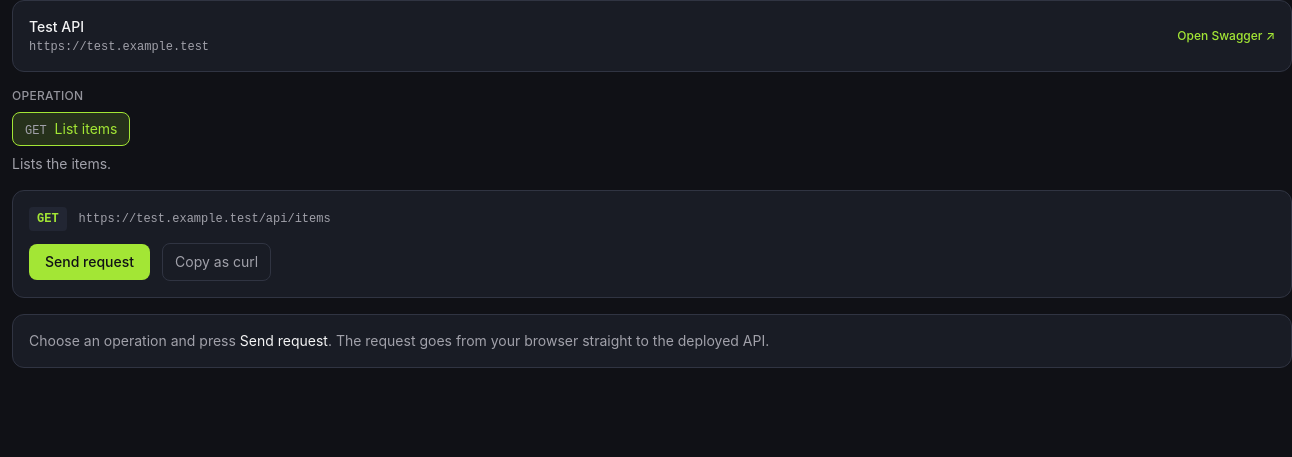
the API tester while a request is running › reports a cancel as the visitor’s own doing
Click the button "Send request" at (90, 262), box [29, 244, 150, 280]
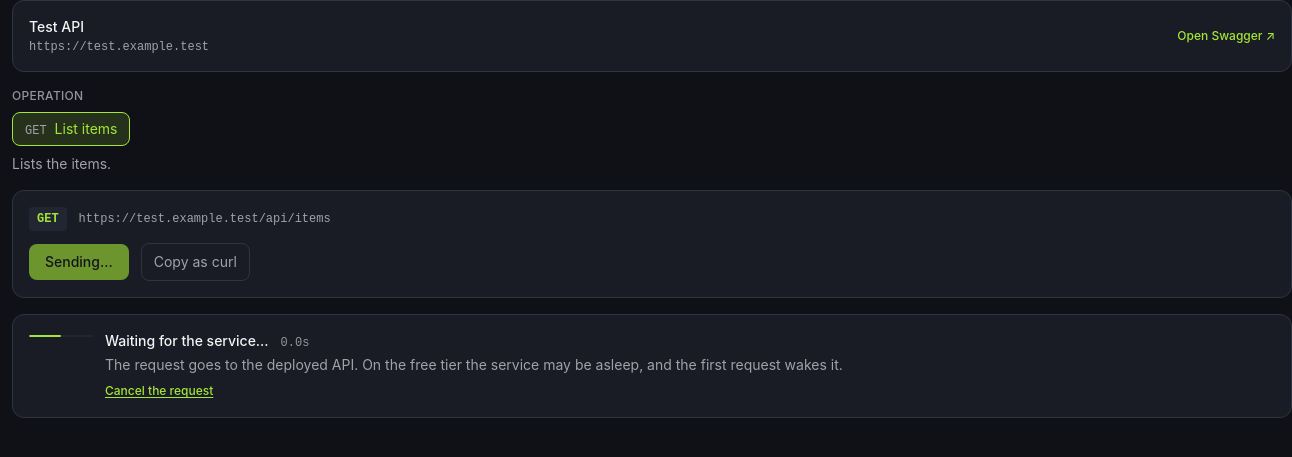
Click the button "Cancel the request" at (159, 391), box [105, 383, 213, 399]
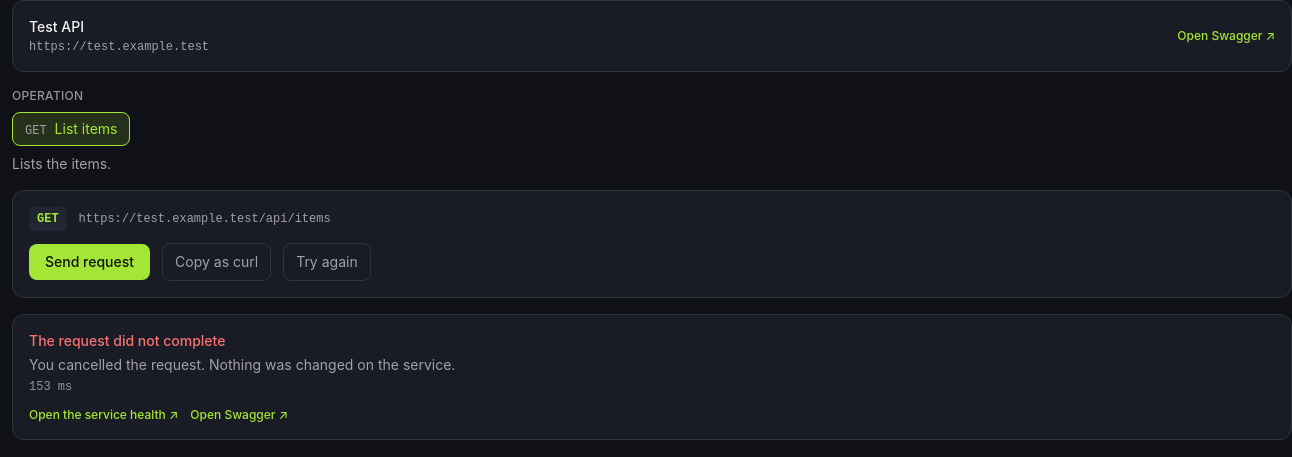
Check: the text "You cancelled the request" is shown, box [29, 356, 455, 373]
